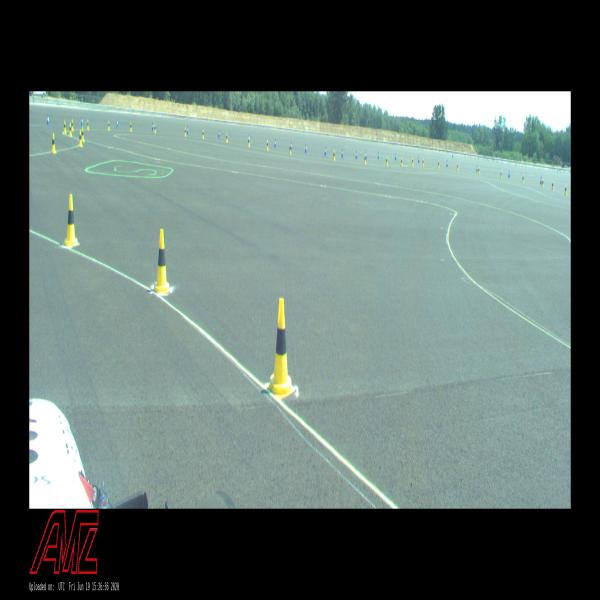blue_cone: (47, 115, 50, 125), (81, 117, 83, 126), (116, 119, 118, 128), (187, 126, 189, 134), (540, 176, 542, 184), (152, 123, 154, 130), (219, 130, 220, 138), (275, 139, 276, 147)
yellow_cone: (267, 298, 295, 399), (154, 229, 169, 292), (64, 194, 80, 246), (51, 133, 57, 153), (78, 130, 82, 147), (69, 124, 72, 136), (71, 119, 74, 131), (266, 140, 269, 151), (82, 127, 84, 142), (289, 144, 292, 154), (385, 156, 388, 166), (564, 185, 567, 195), (400, 157, 403, 166), (551, 181, 554, 190), (64, 121, 66, 132), (87, 119, 89, 130), (108, 120, 110, 130), (248, 137, 250, 147), (333, 150, 335, 160), (364, 154, 366, 164), (130, 122, 132, 131), (202, 130, 204, 139), (226, 134, 228, 143), (412, 157, 414, 166), (154, 125, 156, 133), (184, 128, 186, 136), (422, 158, 424, 166), (438, 160, 440, 168), (478, 166, 480, 174), (500, 170, 502, 178), (522, 174, 524, 182), (542, 179, 544, 187), (456, 164, 458, 171)
